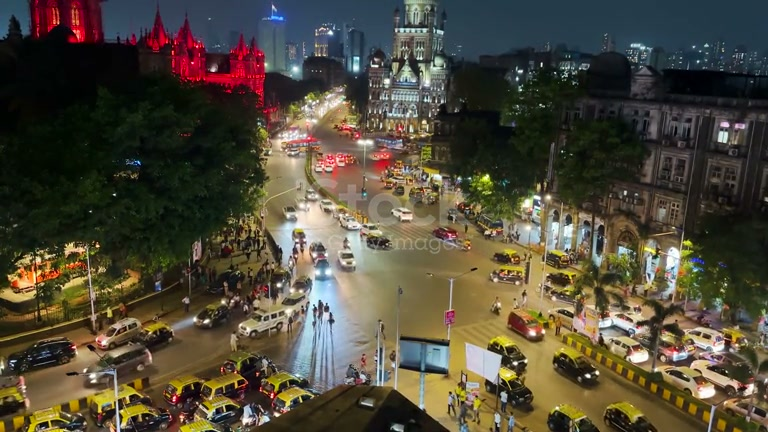car: (82, 341, 153, 388), (9, 338, 78, 372), (691, 359, 748, 397), (552, 350, 601, 387), (602, 400, 658, 432), (546, 401, 601, 432), (94, 318, 142, 352), (235, 311, 287, 340), (273, 386, 318, 416), (506, 309, 545, 343), (135, 320, 175, 351), (685, 327, 728, 354), (193, 302, 231, 329), (658, 346, 693, 365)
pedestrian: (447, 390, 457, 418), (519, 288, 528, 309)
